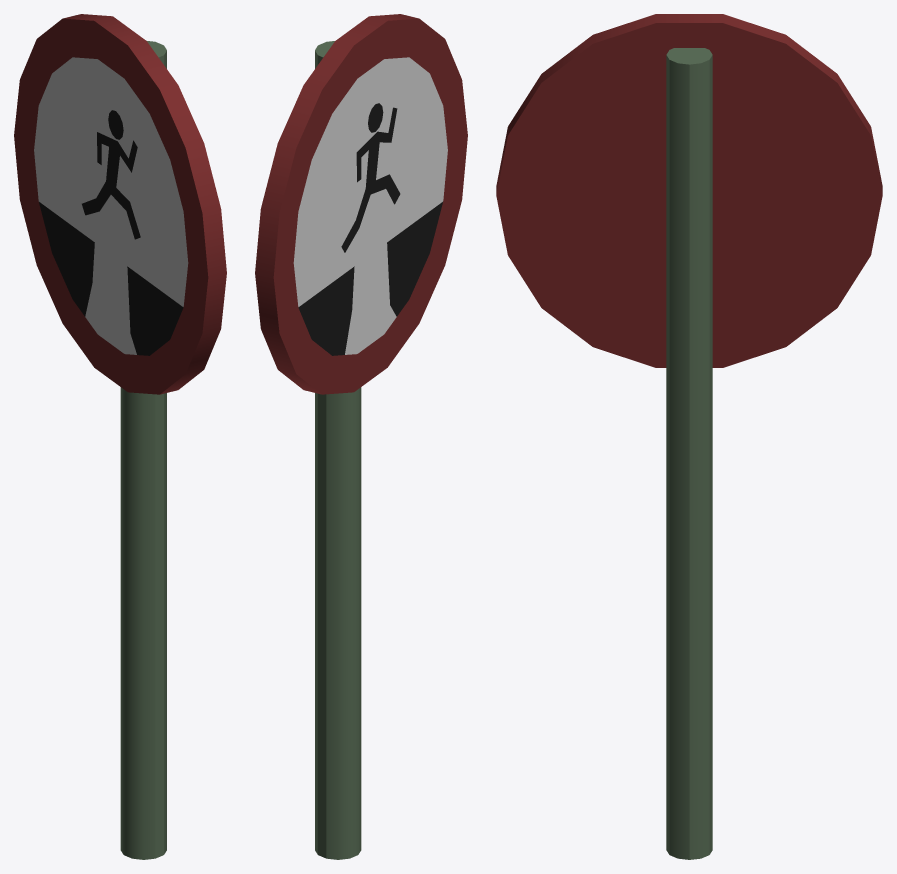
Rendered from HintSign2.FBX.
The picture shows the model from 3 angles, left to right: view 1: azimuth 30°, elevation 25°; view 2: azimuth 150°, elevation 25°; view 3: azimuth 270°, elevation 25°; orthographic projection.
Visible parts, largest first — view 1: HintSign; view 2: HintSign; view 3: HintSign.
Part boxes in pixels (left/top/right/bottom): HintSign: left=14, top=14, right=226, bottom=859; HintSign: left=255, top=14, right=467, bottom=859; HintSign: left=496, top=14, right=882, bottom=859.
Bounding box in the file's own units: 17.29 × 258 × 110.
